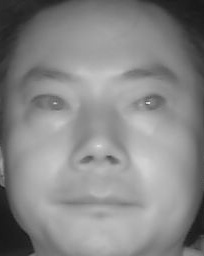eye: (126, 89, 170, 116), (29, 90, 72, 117)
mouth: (53, 179, 147, 229)
